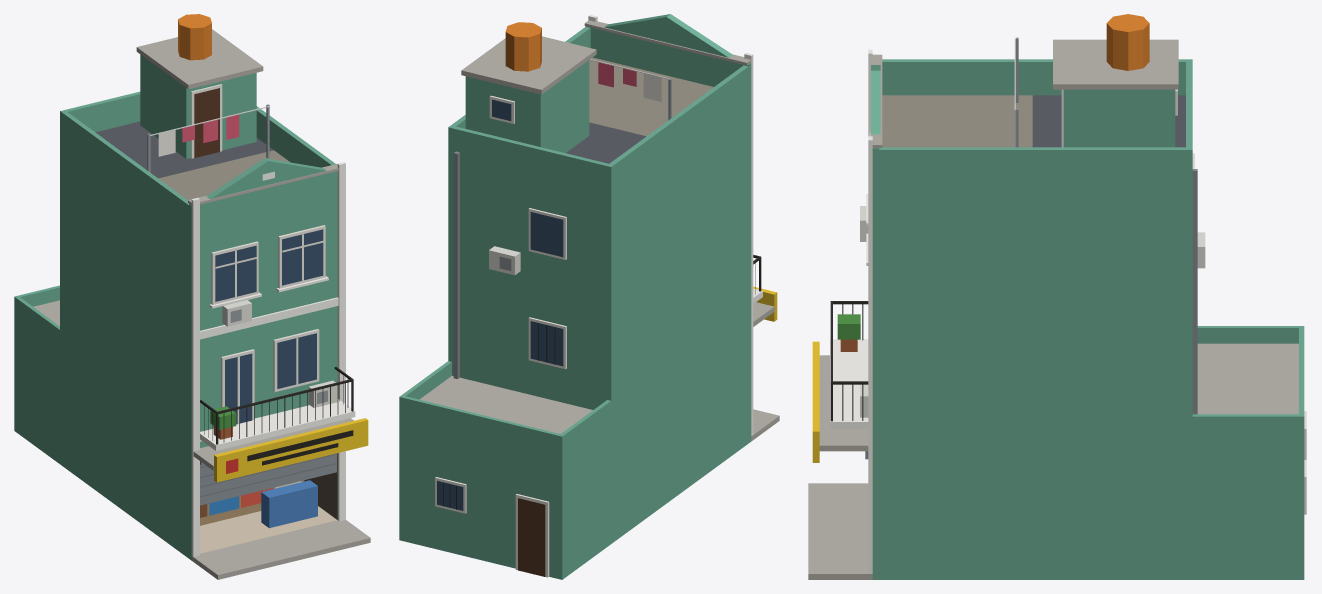
Rendered from ruko_01.glb.
The picture shows the model from 3 angles, left to right: view 1: azimuth 30°, elevation 25°; view 2: azimuth 150°, elevation 25°; view 3: azimuth 270°, elevation 25°; orthographic projection. The views are drawn at different scales.
Visible parts, largest first — view 1: ruko_01; view 2: ruko_01; view 3: ruko_01.
Part boxes in pixels (bbox=[...]): ruko_01: bbox=[14, 14, 370, 579]; ruko_01: bbox=[399, 14, 779, 579]; ruko_01: bbox=[808, 14, 1306, 579].
Bounding box in the file's own units: 5 × 13.64 × 11.63.
